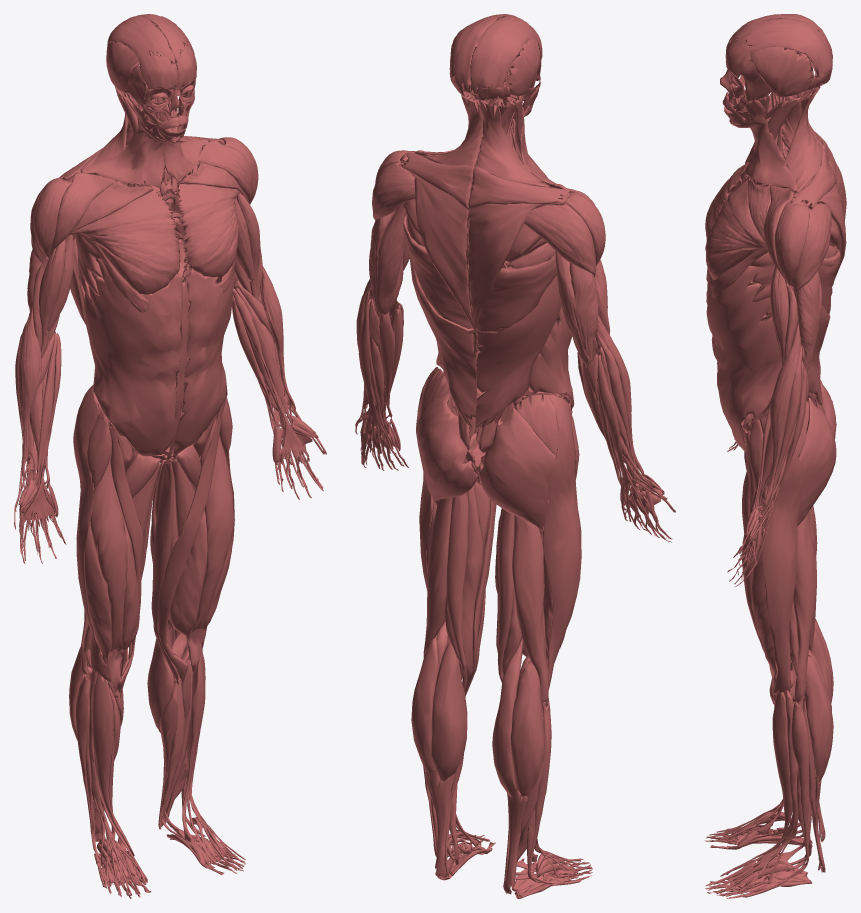
Rendered from muscular-v2.glb.
The picture shows the model from 3 angles, left to right: view 1: azimuth 30°, elevation 25°; view 2: azimuth 150°, elevation 25°; view 3: azimuth 270°, elevation 25°; orthographic projection. The views are drawn at different scales.
Parts seen in each view (by area): view 1: muscle.obliquus_externus_abdominis.right, muscle.obliquus_externus_abdominis.left, muscle.pectoralis_major.right.sternocostal, muscle.pectoralis_major.left.sternocostal, muscle.rectus_femoris.right, muscle.rectus_femoris.left, muscle.sartorius.left, muscle.tractus_iliotibialis.right, muscle.platysma.right, muscle.galea_aponeurotica.midline, muscle.vastus_medialis.left, muscle.gracilis.left (+44 smaller); view 2: muscle.latissimus_dorsi.right, muscle.tractus_iliotibialis.right, muscle.latissimus_dorsi.left, muscle.gluteus_maximus.right, muscle.trapezius.left.ascending, muscle.galea_aponeurotica.midline, muscle.biceps_femoris.right.long_head, muscle.gluteus_maximus.left, muscle.trapezius.right.ascending, muscle.gastrocnemius.left.medial_head, muscle.gastrocnemius.right.lateral_head, muscle.deltoideus.right.spinal (+33 smaller); view 3: muscle.obliquus_externus_abdominis.left, muscle.tractus_iliotibialis.left, muscle.galea_aponeurotica.midline, muscle.pectoralis_major.left.sternocostal, muscle.biceps_femoris.left.long_head, muscle.gluteus_maximus.left, muscle.temporoparietalis.left, muscle.gastrocnemius.left.lateral_head, muscle.platysma.left, muscle.brachioradialis.left, muscle.deltoideus.left.acromial, muscle.deltoideus.left.spinal (+38 smaller).
Part boxes in pixels (x1,y1,x2,y2): muscle.obliquus_externus_abdominis.right: [84, 259, 182, 458]; muscle.obliquus_externus_abdominis.left: [172, 267, 235, 455]; muscle.pectoralis_major.right.sternocostal: [69, 190, 180, 294]; muscle.pectoralis_major.left.sternocostal: [178, 183, 239, 278]; muscle.rectus_femoris.right: [90, 452, 127, 691]; muscle.rectus_femoris.left: [186, 419, 233, 673]; muscle.sartorius.left: [158, 400, 225, 682]; muscle.tractus_iliotibialis.right: [73, 384, 110, 681]; muscle.platysma.right: [78, 118, 175, 187]; muscle.galea_aponeurotica.midline: [106, 14, 191, 64]; muscle.vastus_medialis.left: [169, 510, 207, 659]; muscle.gracilis.left: [151, 460, 179, 684]; muscle.latissimus_dorsi.right: [475, 253, 561, 428]; muscle.tractus_iliotibialis.right: [542, 395, 581, 689]; muscle.latissimus_dorsi.left: [403, 215, 476, 427]; muscle.gluteus_maximus.right: [478, 407, 555, 531]; muscle.trapezius.left.ascending: [413, 173, 475, 331]; muscle.galea_aponeurotica.midline: [449, 14, 537, 94]; muscle.biceps_femoris.right.long_head: [512, 515, 548, 703]; muscle.gluteus_maximus.left: [416, 391, 478, 505]; muscle.trapezius.right.ascending: [468, 203, 544, 330]; muscle.gastrocnemius.left.medial_head: [431, 641, 467, 781]; muscle.gastrocnemius.right.lateral_head: [510, 660, 544, 796]; muscle.deltoideus.right.spinal: [524, 202, 596, 277]; muscle.obliquus_externus_abdominis.left: [706, 265, 781, 450]; muscle.tractus_iliotibialis.left: [759, 416, 804, 695]; muscle.galea_aponeurotica.midline: [729, 14, 832, 78]; muscle.pectoralis_major.left.sternocostal: [705, 181, 766, 279]; muscle.biceps_femoris.left.long_head: [793, 511, 816, 700]; muscle.gluteus_maximus.left: [797, 397, 836, 525]; muscle.temporoparietalis.left: [751, 46, 813, 97]; muscle.gastrocnemius.left.lateral_head: [805, 655, 833, 782]; muscle.platysma.left: [729, 115, 797, 192]; muscle.brachioradialis.left: [763, 321, 800, 507]; muscle.deltoideus.left.acromial: [774, 202, 809, 286]; muscle.deltoideus.left.spinal: [791, 203, 831, 294].
Bounding box in the file's own units: 0.6387 × 1.65 × 0.2504.
